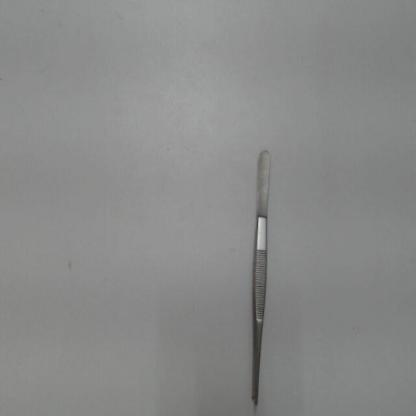Gillies Toothed Dissector: (244, 144, 278, 413)
